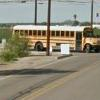Bus: (9, 20, 96, 54)
